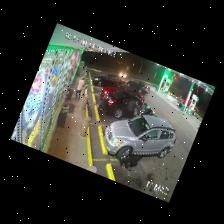person: (75, 78, 83, 99), (98, 98, 106, 113)
